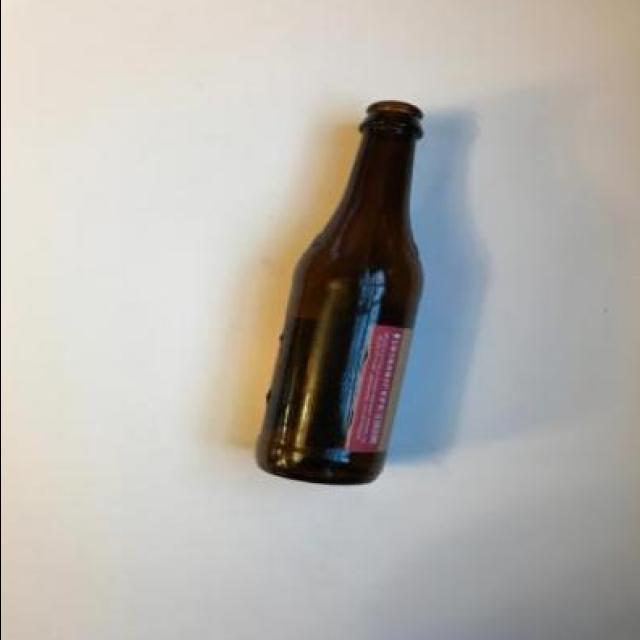kaca: (256, 102, 424, 485)
